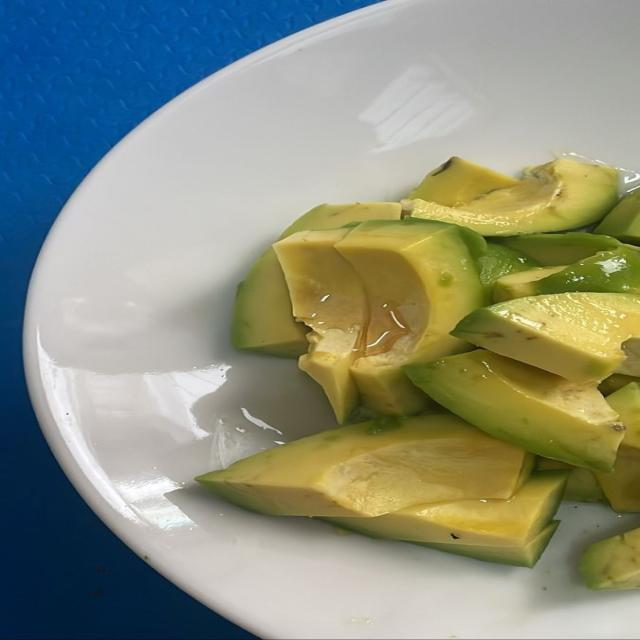avocado: (197, 414, 532, 516), (336, 219, 485, 415), (405, 350, 623, 471), (274, 229, 368, 422), (330, 471, 568, 547), (453, 293, 639, 382), (403, 159, 617, 236), (232, 248, 308, 357), (232, 249, 307, 357), (494, 247, 639, 301), (414, 521, 559, 567), (409, 157, 519, 206), (535, 247, 639, 294), (501, 232, 633, 266), (478, 243, 538, 302), (581, 529, 639, 589), (536, 458, 606, 502), (596, 442, 639, 512), (494, 267, 565, 302), (595, 190, 639, 244), (606, 379, 639, 449), (599, 374, 639, 396)
